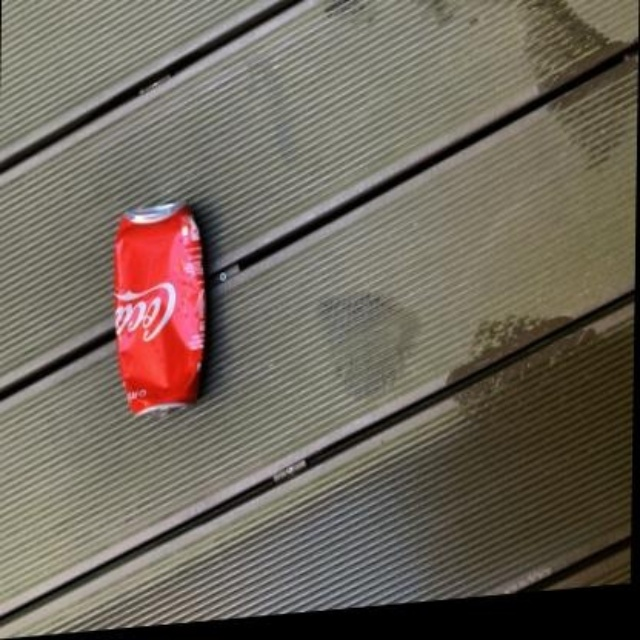trash: (114, 203, 203, 412)
